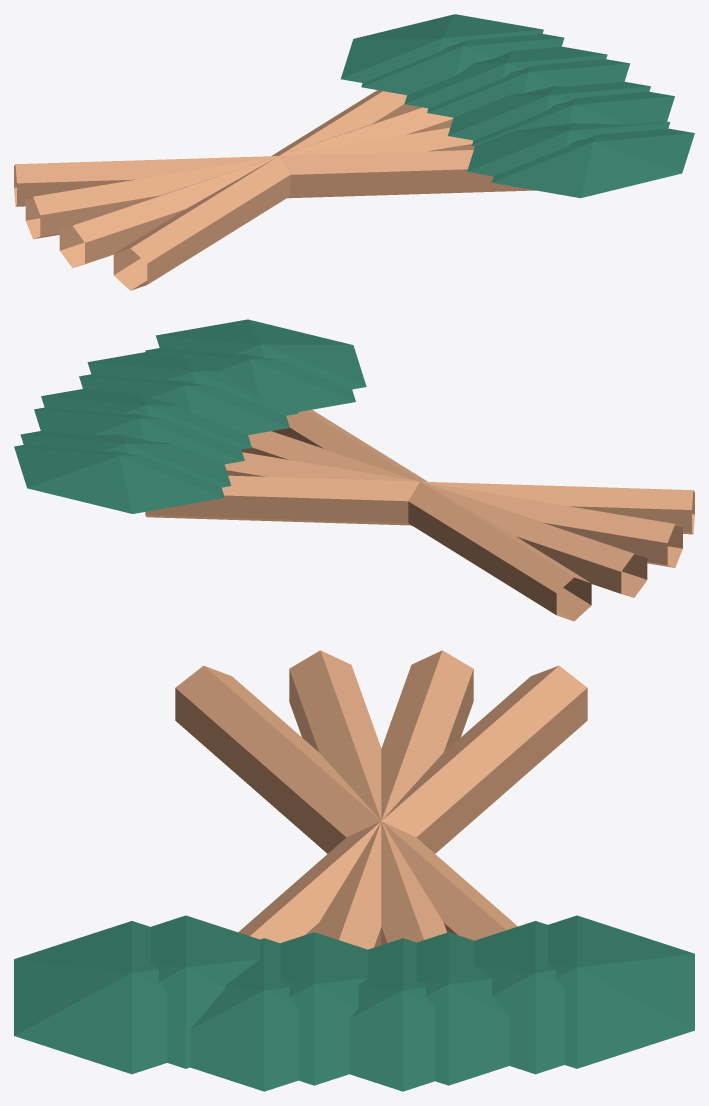
File: kangkung-raw.glb
The picture shows the model from 3 angles, top to bottom: view 1: azimuth 30°, elevation 25°; view 2: azimuth 150°, elevation 25°; view 3: azimuth 270°, elevation 25°; orthographic projection. The views are drawn at different scales.
Visible parts, largest first — view 1: kangkung-raw; view 2: kangkung-raw; view 3: kangkung-raw.
Boxes of the visible parts, box(x1,y1,x2,y2) form: kangkung-raw: box(14, 14, 694, 290); kangkung-raw: box(14, 319, 694, 621); kangkung-raw: box(14, 650, 694, 1091).
Bounding box in the file's own units: 0.231 × 0.022 × 0.15.
Materials: 1 (1 with a texture image).
